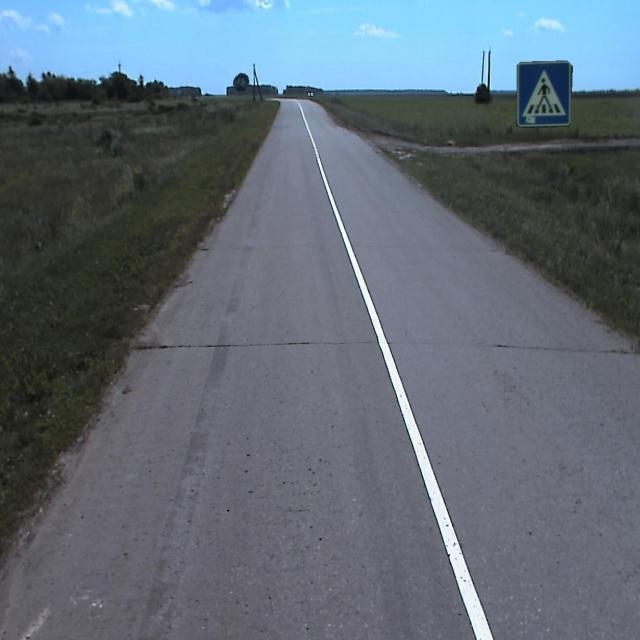road: (0, 98, 639, 639)
